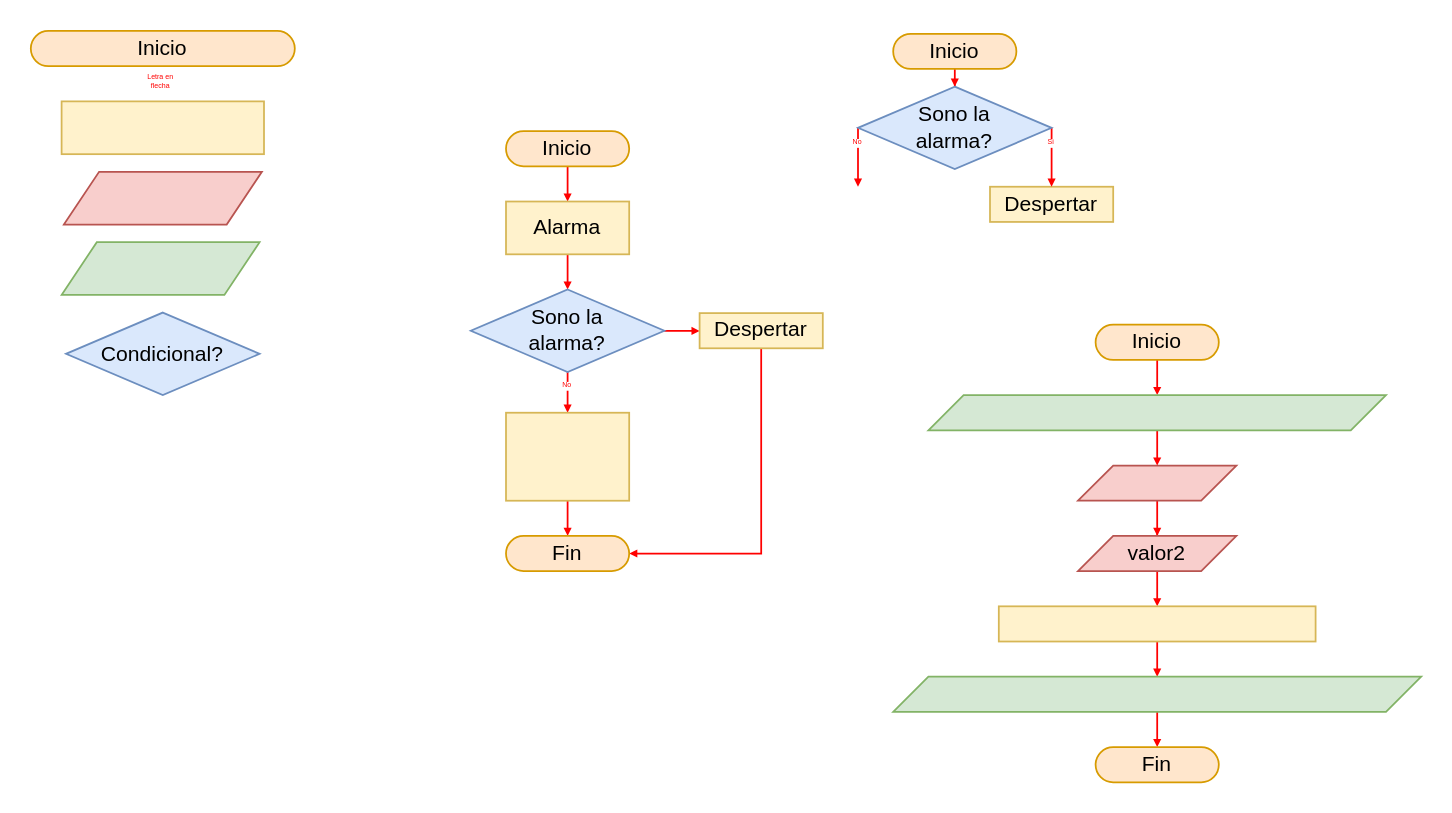
Image size: 1452x813. Some labels were removed from this diagram. Each missing label, with the centre of its shape:
"El resultado de la suma es: " , resultado: pixel 1156 693
"Ingrese 2 valores a ser sumados.": pixel 1156 411
Me he quedado dormido: pixel 566 456
Objeto: pixel 162 127
resultado <- valor1 + valor2: pixel 1156 623
valor1: pixel 1156 482
